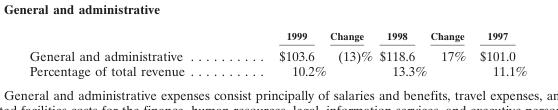table: (28, 29, 526, 78)
table column: (28, 29, 231, 78), (231, 29, 327, 78), (472, 29, 526, 78), (375, 29, 428, 78), (327, 29, 375, 78), (428, 29, 472, 78)
table column header: (28, 29, 526, 44)
table row: (28, 44, 526, 63), (28, 29, 526, 44), (28, 63, 526, 78)
